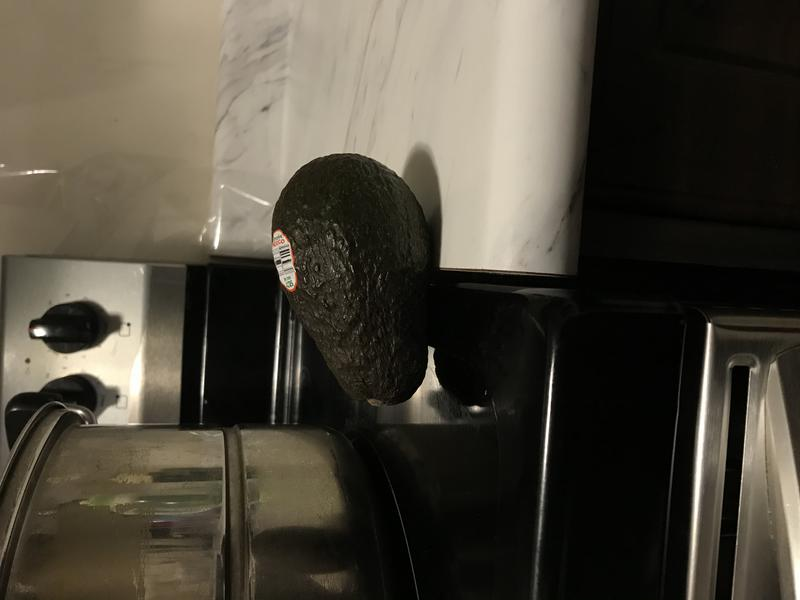avocado: (267, 147, 443, 418)
